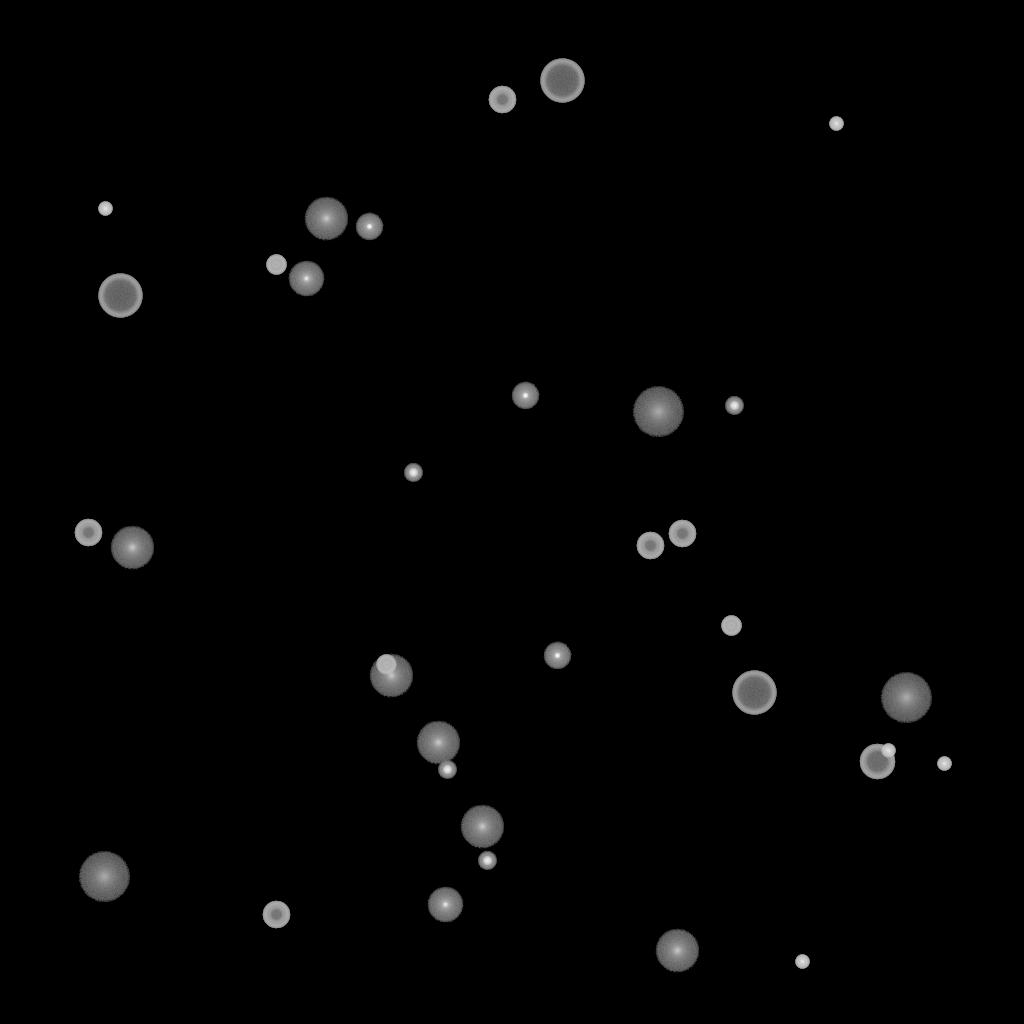depth:-10: (355, 213, 383, 241), (511, 382, 539, 410), (543, 642, 571, 670)
depth:-20: (478, 852, 496, 870), (404, 464, 422, 482), (725, 397, 743, 415), (438, 761, 456, 779)
depth:-30: (98, 202, 112, 216), (937, 757, 951, 771), (829, 117, 843, 131), (881, 744, 895, 758), (795, 955, 809, 969)
depth:-40: (266, 255, 286, 275), (721, 616, 741, 636), (376, 655, 396, 675)
depth:-50: (74, 519, 102, 547), (488, 86, 516, 114), (636, 532, 664, 560), (262, 901, 290, 929), (668, 520, 696, 548)
depth:-60: (859, 744, 895, 780)
depth:-70: (98, 274, 142, 318), (732, 671, 776, 715), (540, 59, 584, 103)
depth:0: (427, 887, 463, 923), (288, 261, 324, 297)
depth:10: (110, 526, 154, 570), (655, 929, 699, 973), (460, 805, 504, 849), (304, 197, 348, 241), (369, 654, 413, 698), (416, 721, 460, 765)
depth:20: (78, 852, 130, 902), (880, 673, 932, 723), (632, 387, 684, 437)
